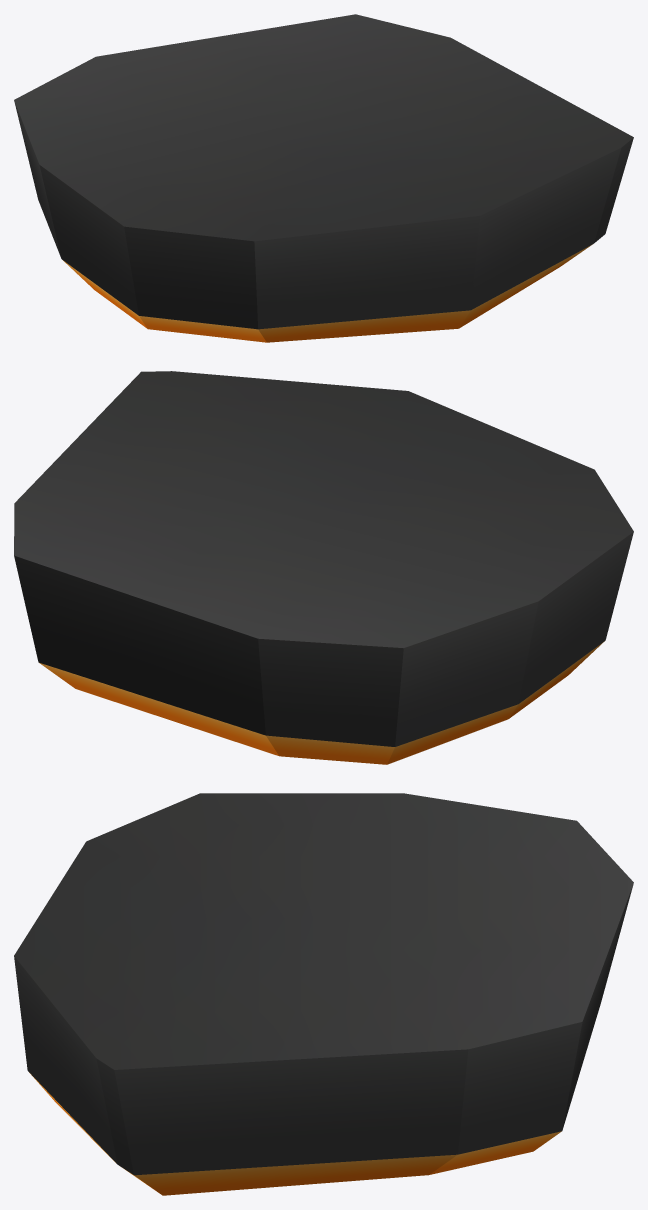
File: W3_PLATFORM_4.fbx
3 renders of one model, top to bottom at view 1: azimuth 30°, elevation 25°; view 2: azimuth 150°, elevation 25°; view 3: azimuth 270°, elevation 25°, orthographic. The views are drawn at different scales.
Parts seen in each view (by area): view 1: W3_PLATFORM_4; view 2: W3_PLATFORM_4; view 3: W3_PLATFORM_4.
Boxes of the visible parts, box(x1,y1,x2,y2) form: W3_PLATFORM_4: box(14, 14, 633, 342); W3_PLATFORM_4: box(14, 371, 633, 764); W3_PLATFORM_4: box(14, 793, 633, 1195).
Bounding box in the file's own units: 987 × 249 × 934.
